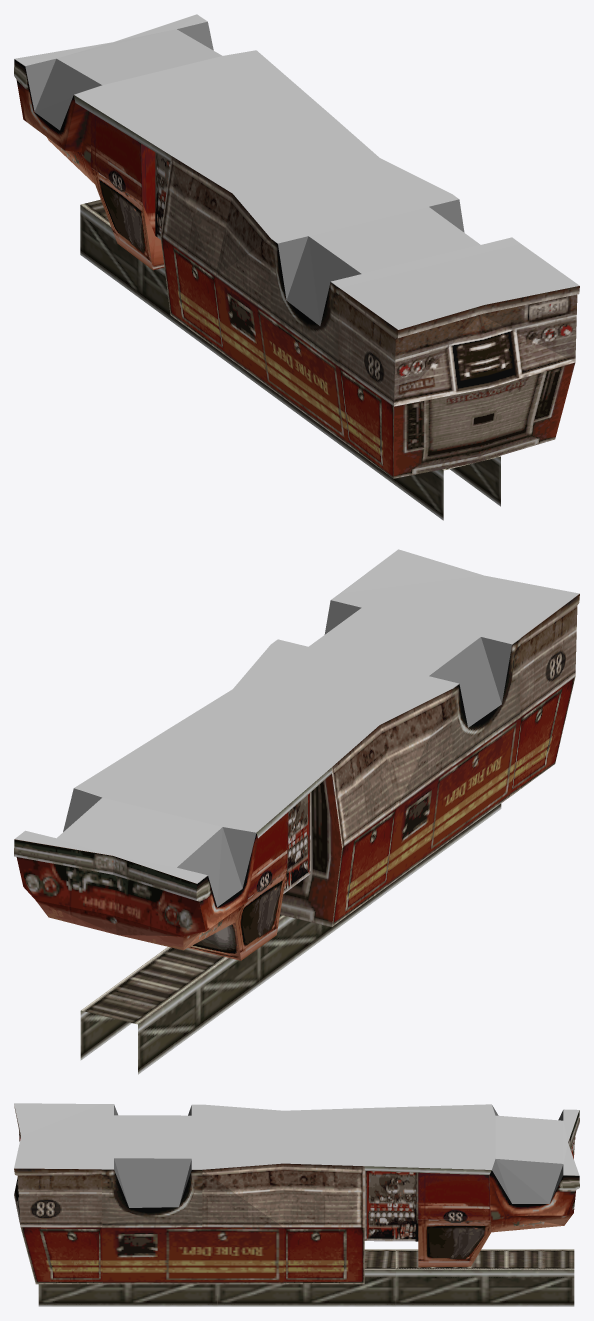
File: RIO_model10_damaged.obj
3 views of the same model, one above another, from view 1: azimuth 30°, elevation 25°; view 2: azimuth 150°, elevation 25°; view 3: azimuth 270°, elevation 25° (orthographic). The views are drawn at different scales.
Visible parts, largest first — view 1: RIO_model10_damaged; view 2: RIO_model10_damaged; view 3: RIO_model10_damaged.
Part boxes in pixels (bbox=[...]): RIO_model10_damaged: bbox=[14, 14, 579, 520]; RIO_model10_damaged: bbox=[14, 549, 579, 1074]; RIO_model10_damaged: bbox=[14, 1103, 579, 1306].
Bounding box in the file's own units: 328 × 374 × 1194.
